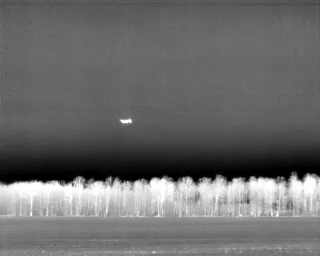DRONE: (116, 113, 137, 129)
